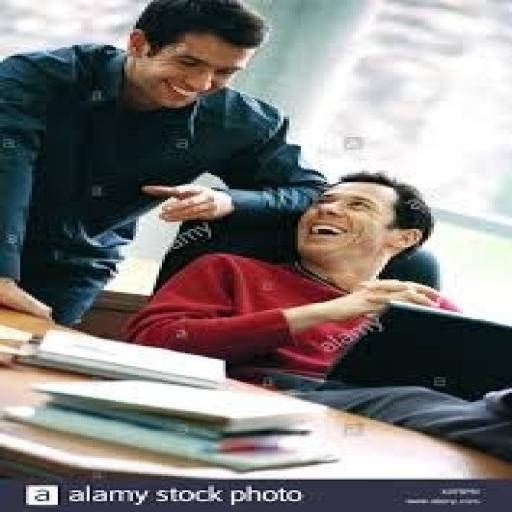using_laptop: (255, 298, 509, 400)
